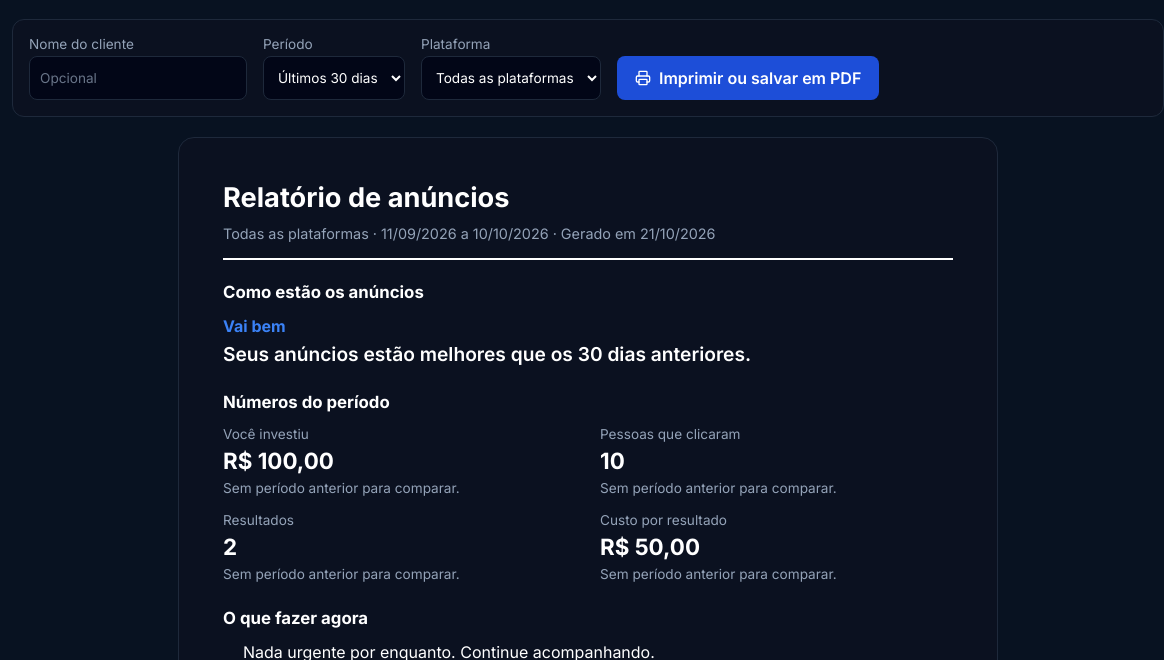
Test: Report page › puts the client name in the document as you type
Type "Padaria Sol" into the field labelled "Nome do cliente".
click(138, 78); type("Padaria Sol")  # box x1=29 y1=56 x2=247 y2=100
(page scrolled)
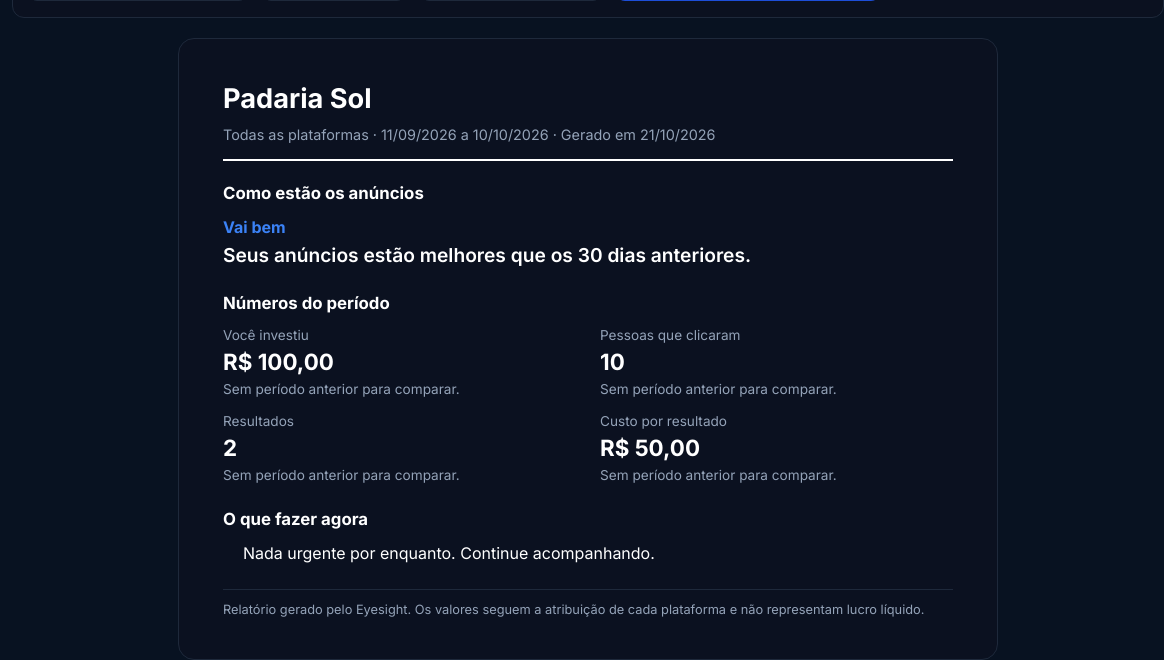
Expected: the element named "Relatório de anúncios: Padaria Sol" is shown
